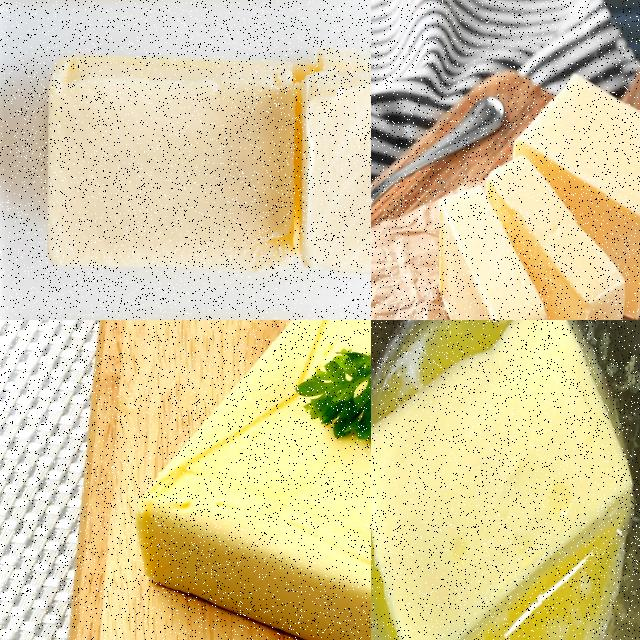butter: (371, 320, 634, 639), (134, 320, 370, 639), (43, 52, 370, 278), (513, 75, 639, 319), (439, 156, 625, 319)
